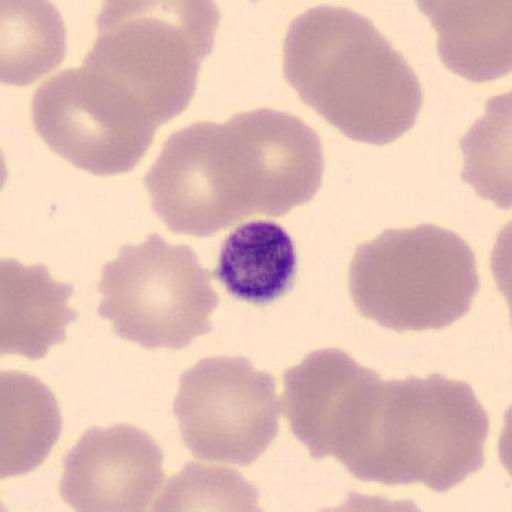Platelet: (211, 218, 302, 307)
RBC: (345, 220, 481, 334), (96, 230, 220, 353), (28, 67, 156, 178), (143, 116, 258, 239), (170, 352, 284, 466), (388, 370, 491, 494), (80, 16, 200, 122), (307, 40, 425, 146), (217, 104, 326, 218), (280, 344, 384, 461), (328, 374, 434, 488), (281, 2, 390, 112), (346, 224, 440, 333), (59, 420, 167, 512), (411, 0, 512, 85), (94, 0, 222, 66), (2, 257, 79, 361), (2, 368, 65, 480), (458, 88, 512, 212), (145, 461, 272, 512), (2, 0, 68, 89), (304, 489, 434, 512), (489, 215, 512, 317), (342, 489, 440, 512), (96, 0, 169, 23), (496, 386, 512, 487), (496, 402, 512, 482)
